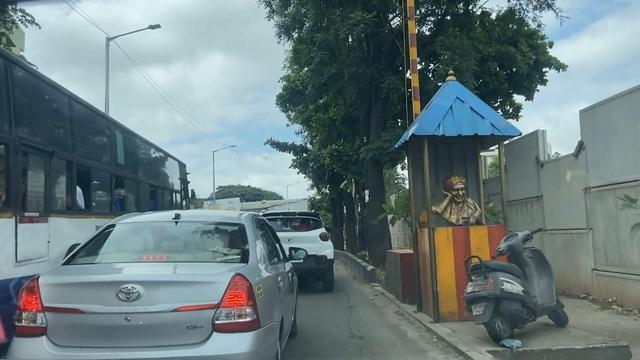LMV: (25, 221, 253, 360), (466, 234, 554, 329)
